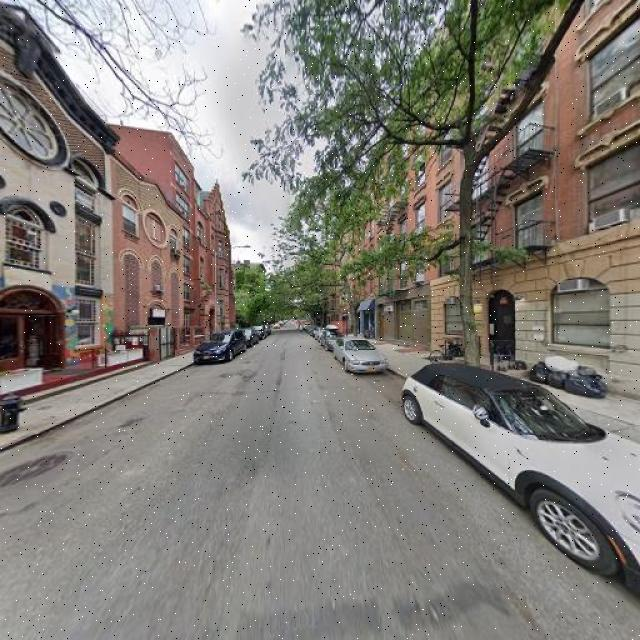Building: (435, 1, 640, 399), (1, 23, 112, 385)
